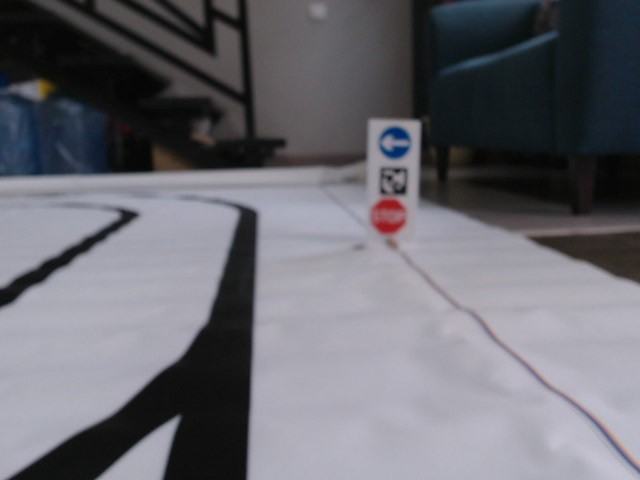Stop: (370, 198, 407, 236)
